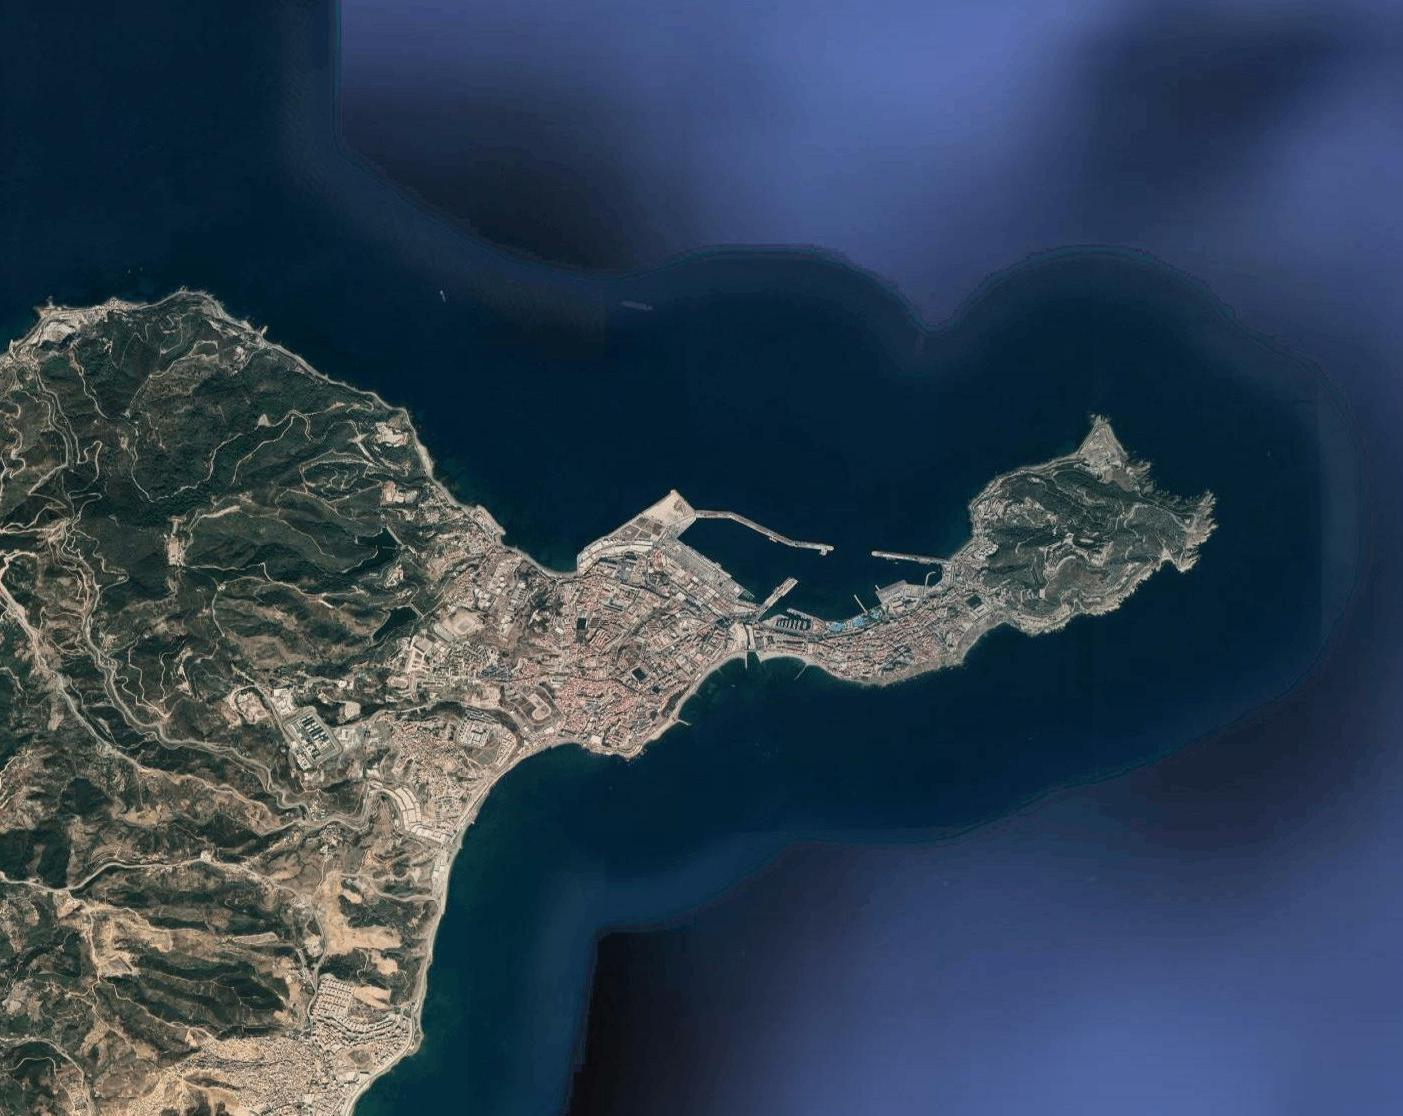harbor: (656, 497, 960, 625)
